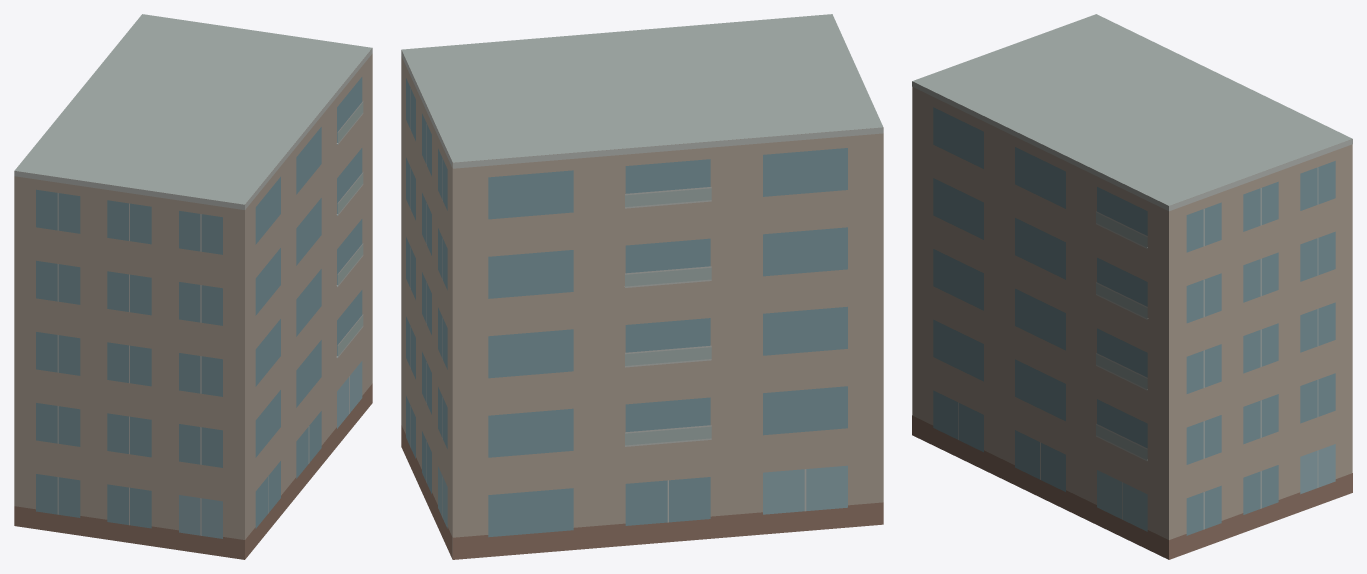
The model's file is survey-upis-32843756.glb.
The picture shows the model from 3 angles, left to right: view 1: azimuth 30°, elevation 25°; view 2: azimuth 150°, elevation 25°; view 3: azimuth 270°, elevation 25°; orthographic projection. The views are drawn at different scales.
Visible parts, largest first — view 1: survey-upis-32843756.tmp; view 2: survey-upis-32843756.tmp; view 3: survey-upis-32843756.tmp.
Boxes of the visible parts, left/top/right/bottom form: survey-upis-32843756.tmp: left=14, top=14, right=372, bottom=559; survey-upis-32843756.tmp: left=401, top=14, right=883, bottom=559; survey-upis-32843756.tmp: left=912, top=14, right=1352, bottom=559.
Bounding box in the file's own units: 18.5 × 15.9 × 17.95.
